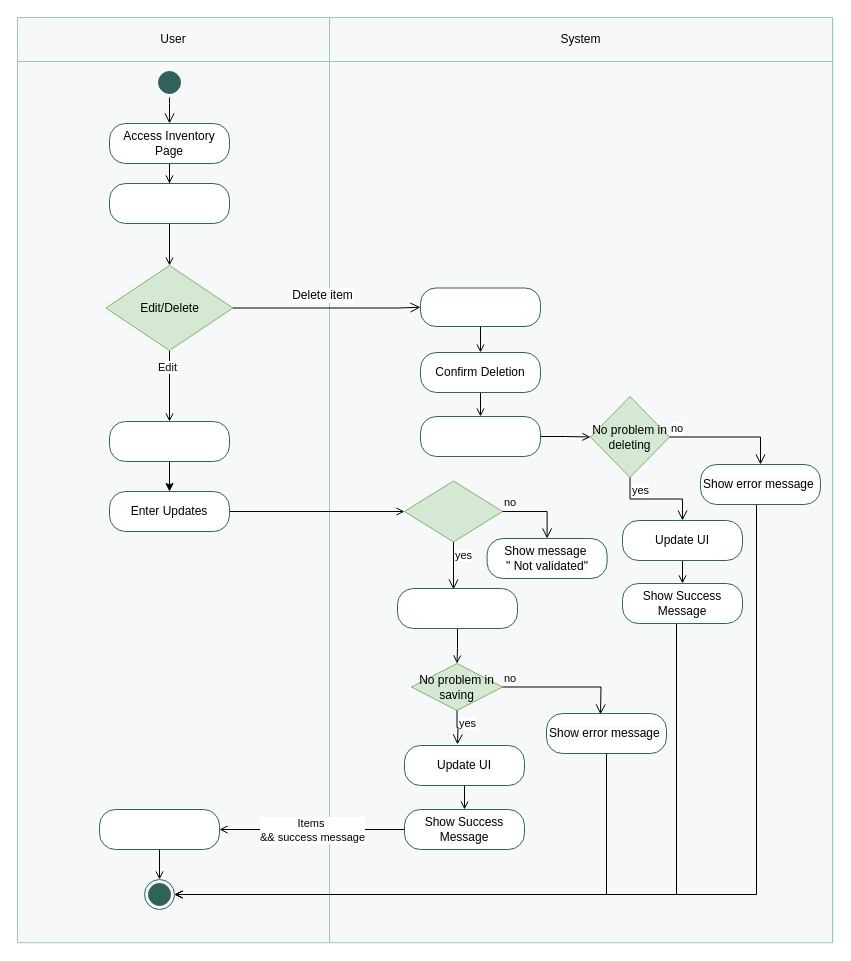
Image size: 851x961. Some labels were removed from this diagram. Each missing label, with the box of its shape:
Display Inventory Items: (108, 182, 230, 224)
Display Items: (98, 808, 220, 850)
Perform Deletion: (420, 416, 540, 456)
Save Changes: (396, 588, 518, 628)
Select Item to Delete: (420, 287, 540, 326)
Select Item to Edit: (108, 420, 230, 462)
Validate Input Data: (404, 480, 502, 542)
